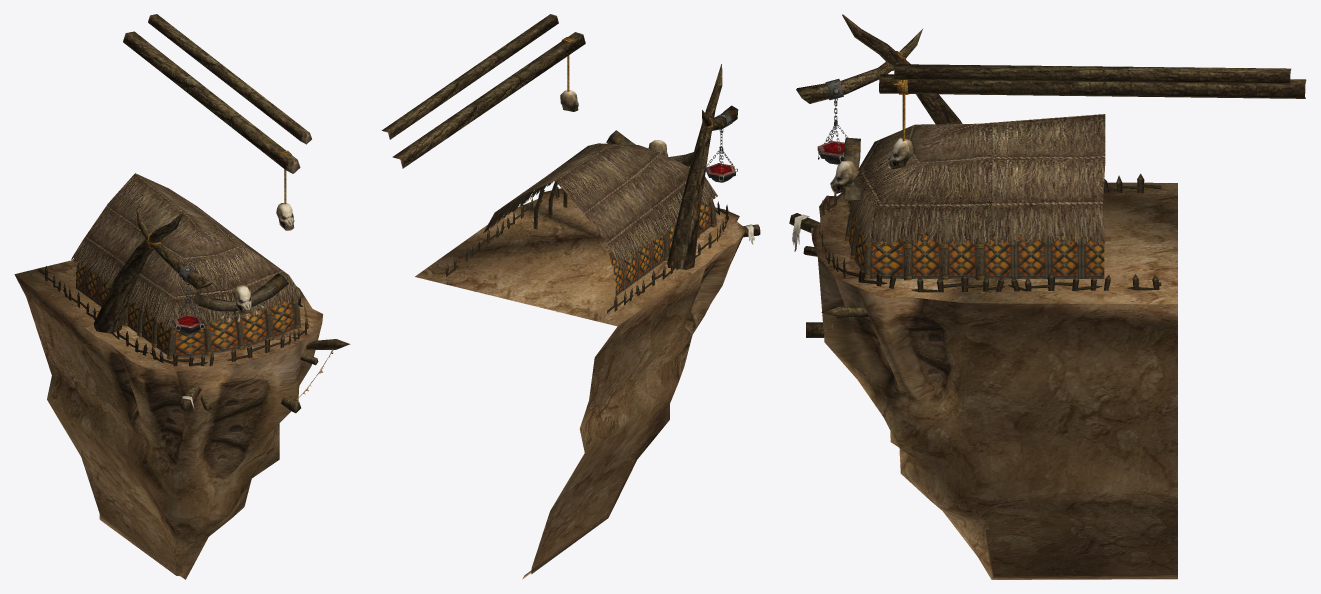
The model's file is w_cd_ravi_house_01.glb.
3 views of the same model, side by side, from view 1: azimuth 30°, elevation 25°; view 2: azimuth 150°, elevation 25°; view 3: azimuth 270°, elevation 25° (orthographic). The views are drawn at different scales.
Visible parts, largest first — view 1: W_CD_ravi_house_01, W_CD_ravi_house_06, W_CD_ravi_house_05, W_CD_ravi_house_winlight, W_CD_ravi_house_02, W_CD_ravi_house_03, W_CD_ravi_house_09, W_CD_ravi_house_10; view 2: W_CD_ravi_house_01, W_CD_ravi_house_06, W_CD_ravi_house_05, W_CD_ravi_house_winlight, W_CD_ravi_house_02, W_CD_ravi_house_03; view 3: W_CD_ravi_house_01, W_CD_ravi_house_06, W_CD_ravi_house_05, W_CD_ravi_house_winlight, W_CD_ravi_house_02, W_CD_ravi_house_03.
Boxes of the visible parts, x1,y1,x2,y2 form: W_CD_ravi_house_01: [14, 260, 323, 579]; W_CD_ravi_house_06: [71, 173, 303, 330]; W_CD_ravi_house_05: [94, 14, 350, 413]; W_CD_ravi_house_winlight: [75, 259, 294, 357]; W_CD_ravi_house_02: [38, 266, 308, 366]; W_CD_ravi_house_03: [123, 295, 300, 359]; W_CD_ravi_house_09: [192, 285, 272, 311]; W_CD_ravi_house_10: [197, 273, 288, 310]; W_CD_ravi_house_01: [415, 188, 746, 579]; W_CD_ravi_house_06: [483, 143, 717, 267]; W_CD_ravi_house_05: [382, 14, 760, 269]; W_CD_ravi_house_winlight: [609, 203, 710, 295]; W_CD_ravi_house_02: [445, 186, 728, 313]; W_CD_ravi_house_03: [533, 181, 716, 260]; W_CD_ravi_house_01: [811, 182, 1177, 579]; W_CD_ravi_house_06: [846, 114, 1105, 244]; W_CD_ravi_house_05: [789, 14, 1306, 337]; W_CD_ravi_house_winlight: [848, 213, 1104, 278]; W_CD_ravi_house_02: [819, 173, 1161, 292]; W_CD_ravi_house_03: [845, 209, 984, 280].
Size of the model in its own units: 12.23 by 25.98 by 21.65.
15 materials, 15 textured.
